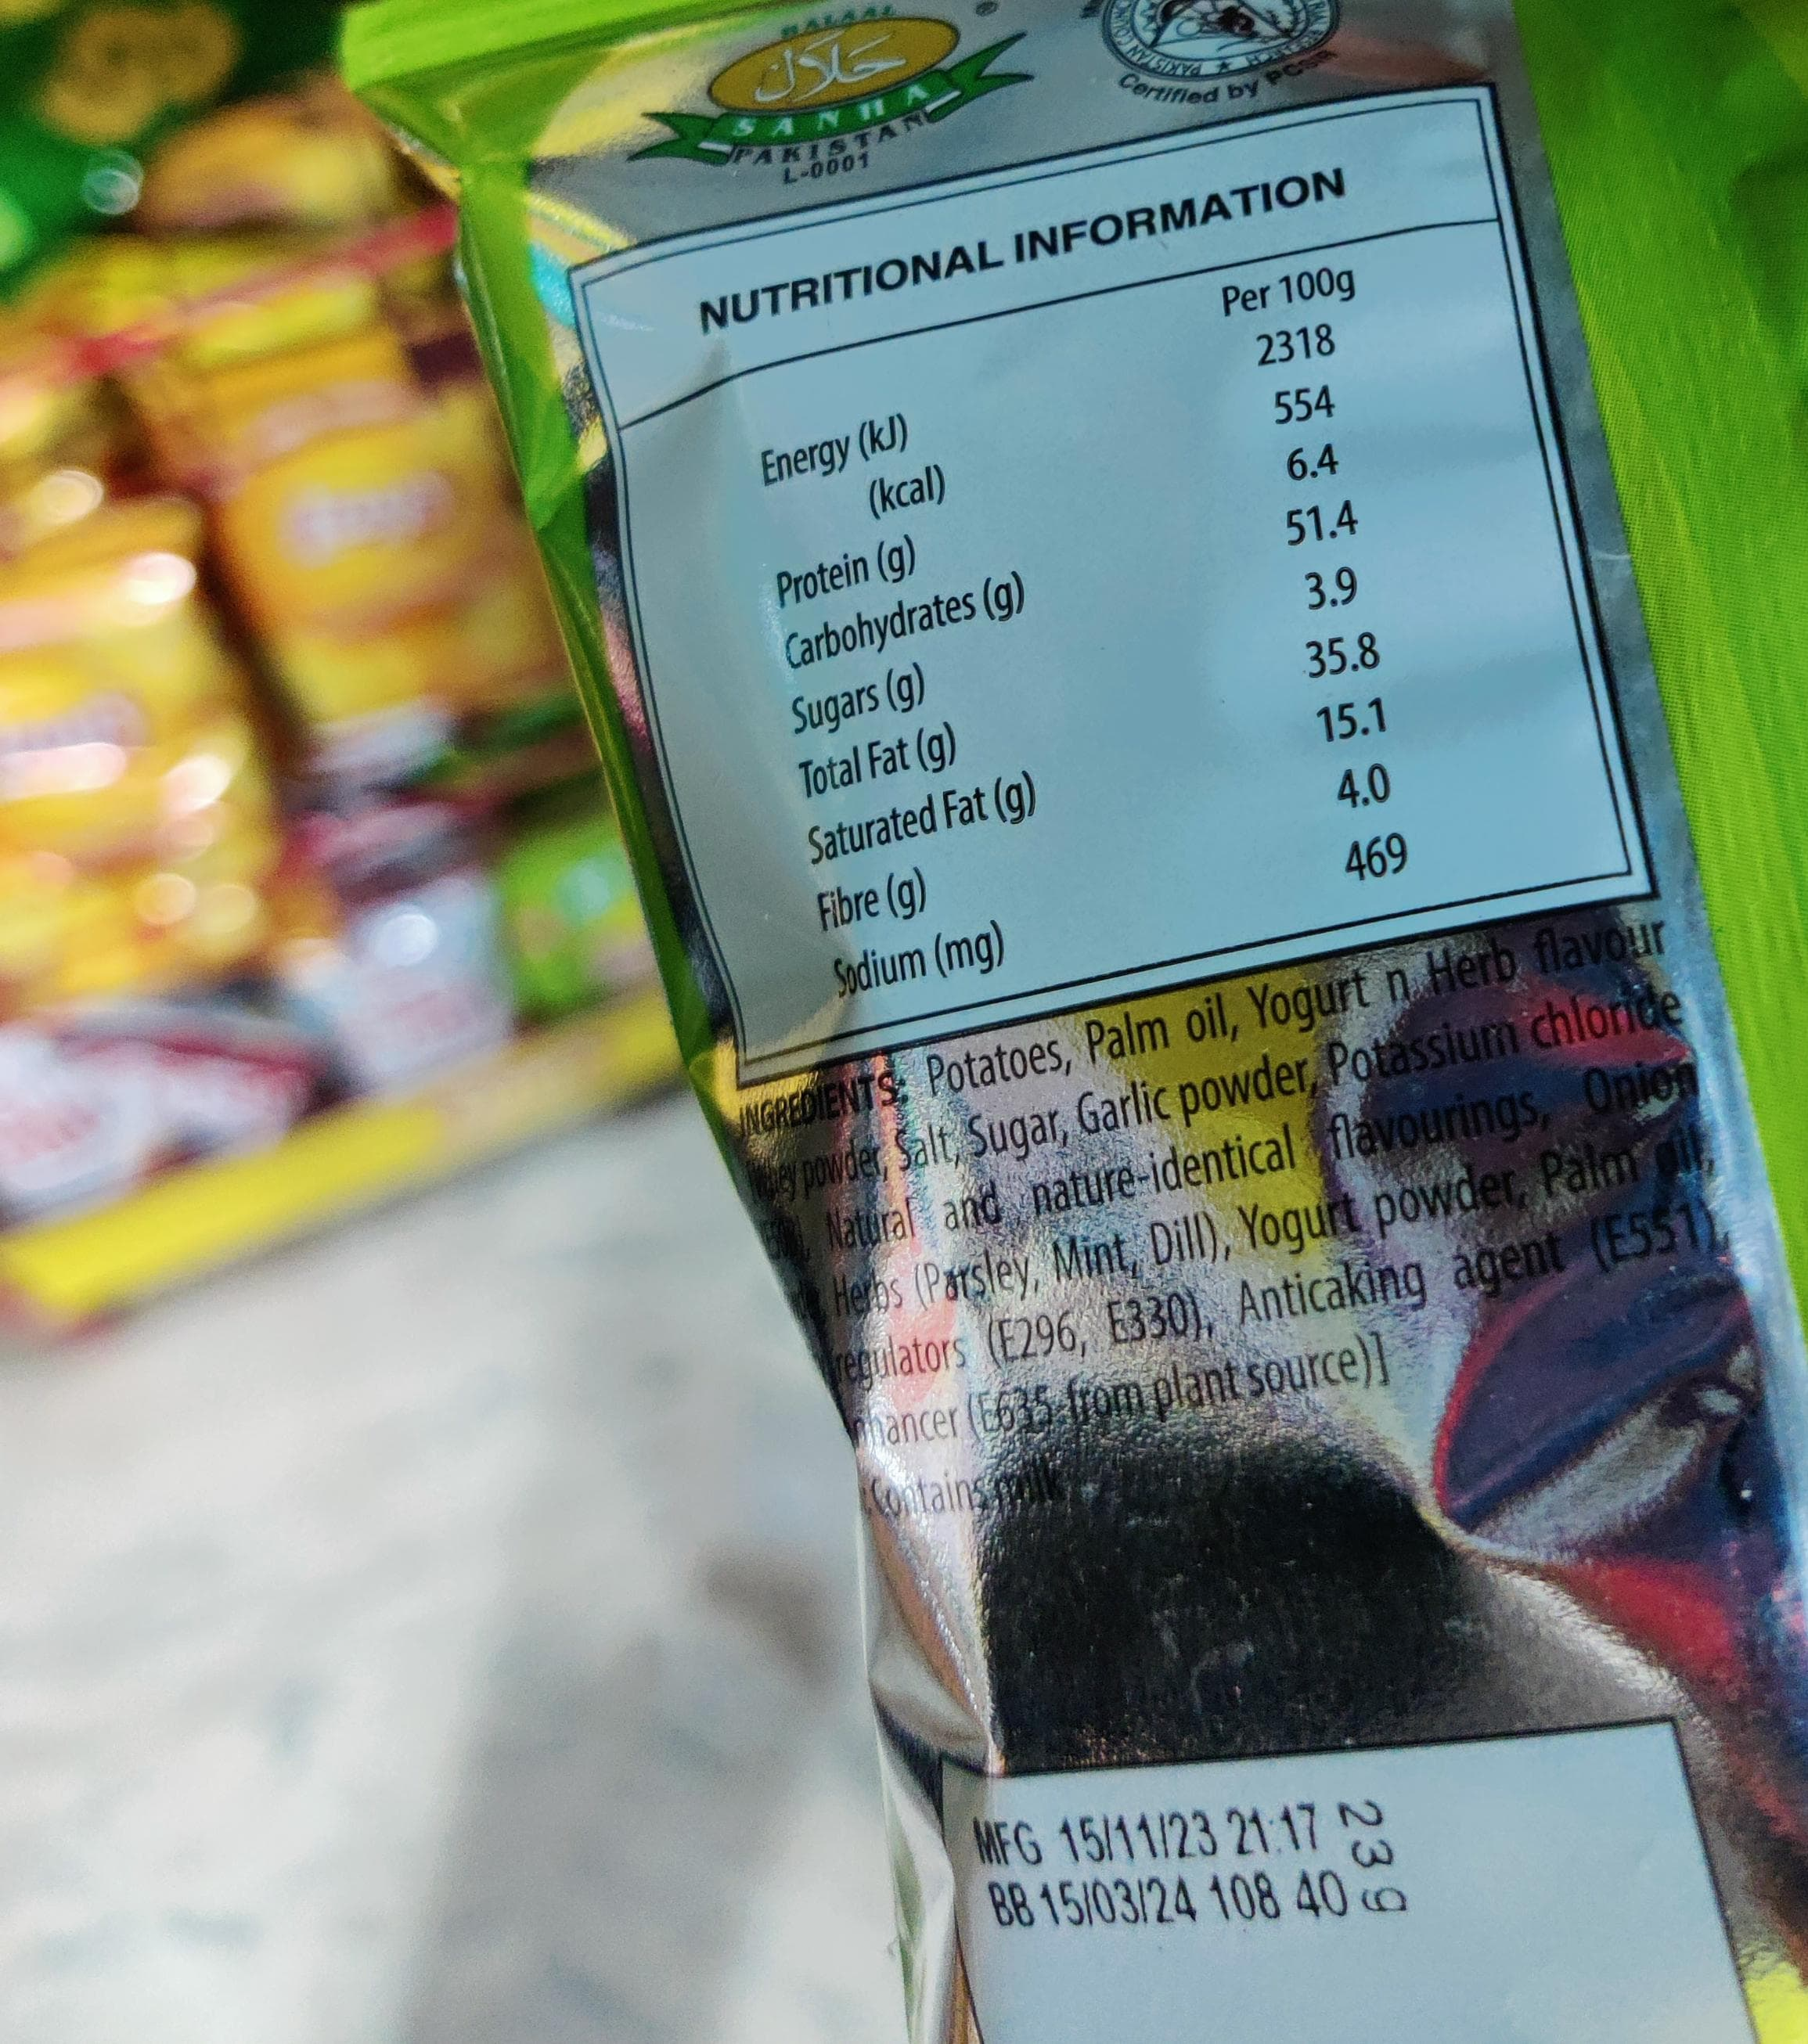table: (550, 78, 1667, 1094)
